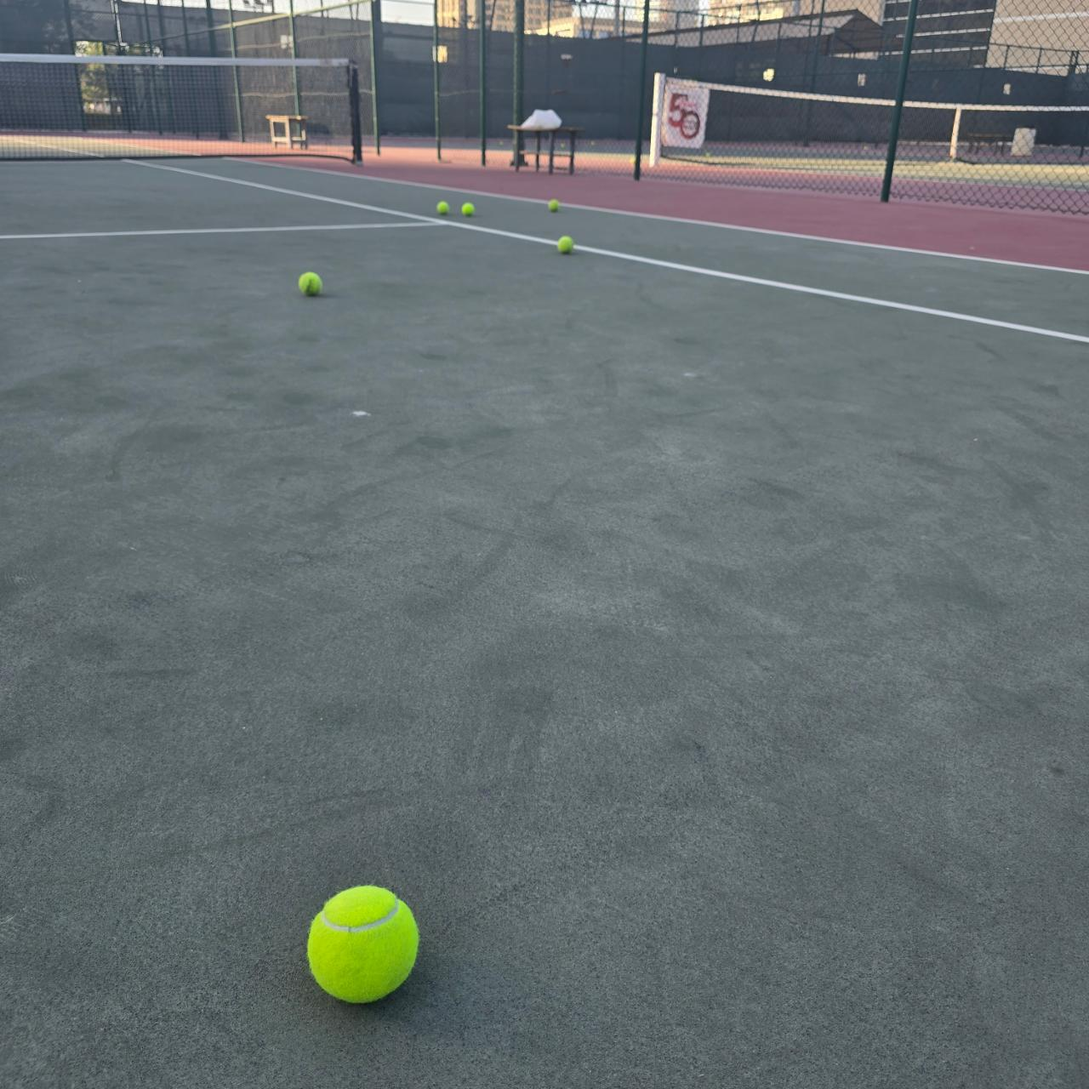tennis-ball: (304, 881, 420, 1006), (296, 269, 322, 295), (556, 233, 573, 254), (437, 201, 450, 215), (462, 202, 475, 216), (548, 200, 560, 212)
